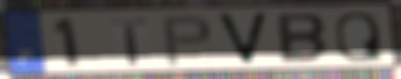1: (51, 16, 83, 70)
B: (275, 12, 330, 65)
P: (160, 13, 215, 68)
Q: (333, 10, 386, 63)
T: (109, 16, 151, 67)
V: (213, 11, 271, 66)
